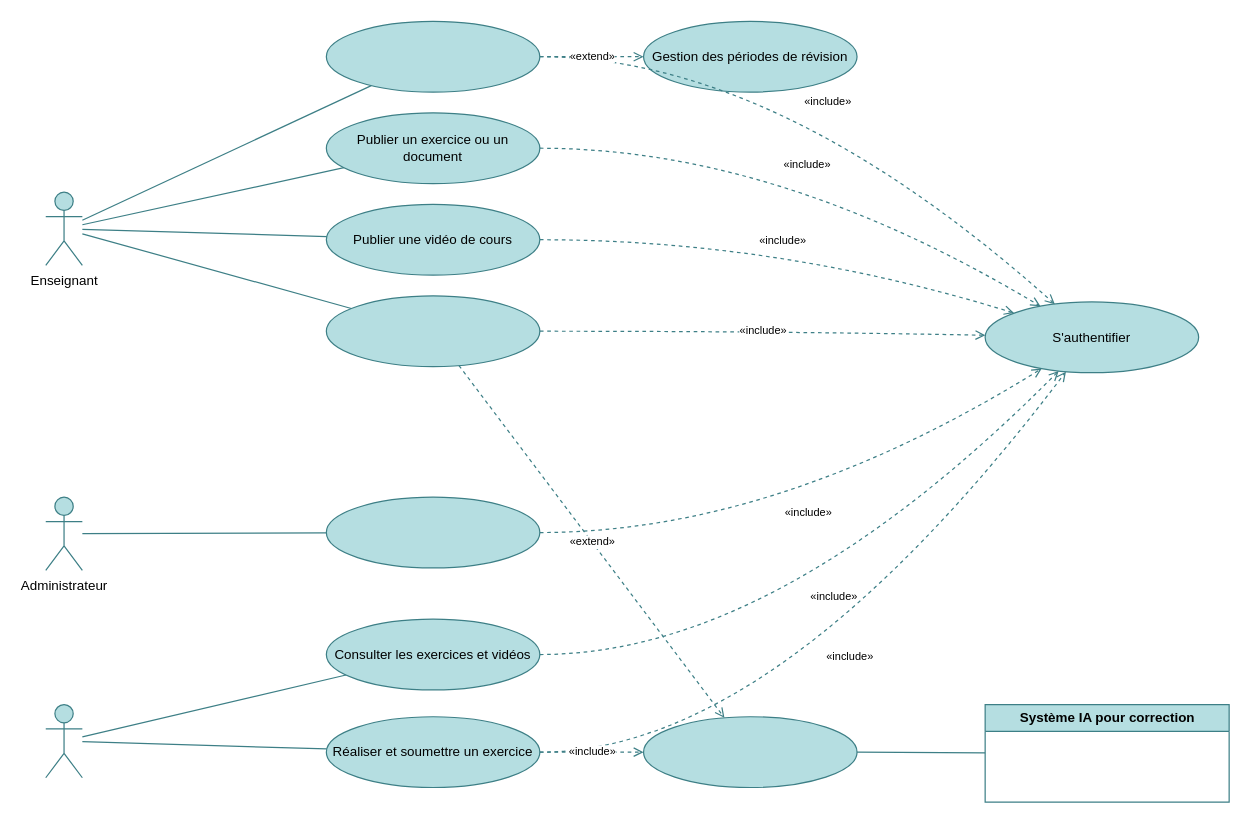
Image size: 1251x824. Some labels were removed from this diagram. Each missing label, with the centre of its shape:
"Corriger l'exercice" belongs at pixel 749 752.
"Demander une période de révision" belongs at pixel 432 56.
"Traiter la demande de période" belongs at pixel 432 532.
"Valider la correction" belongs at pixel 432 331.
"Élève" belongs at pixel 63 740.
